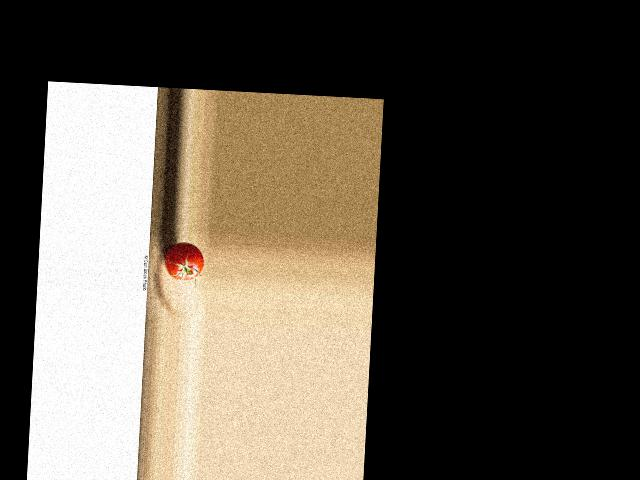tomato: (164, 241, 203, 282)
